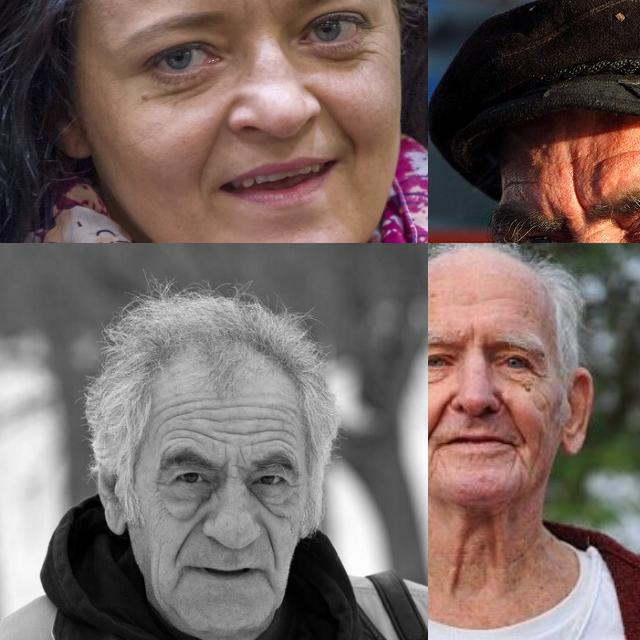bunny_line: (258, 501, 292, 522)
crows_feet: (148, 471, 172, 493), (280, 475, 306, 495), (529, 366, 549, 386), (369, 20, 389, 36)
forehead: (160, 398, 202, 444), (216, 406, 258, 446), (266, 405, 302, 451), (497, 168, 537, 198), (598, 141, 640, 164)
frown_line: (232, 0, 283, 27), (564, 176, 590, 218), (220, 456, 250, 482), (467, 322, 478, 346)
gummy_smile: (314, 92, 358, 152), (200, 105, 228, 171), (172, 514, 202, 558), (500, 396, 522, 444), (258, 523, 284, 563), (428, 391, 448, 442)
sad_smile: (508, 446, 526, 482), (166, 568, 188, 590), (261, 568, 277, 592), (428, 448, 437, 478)
